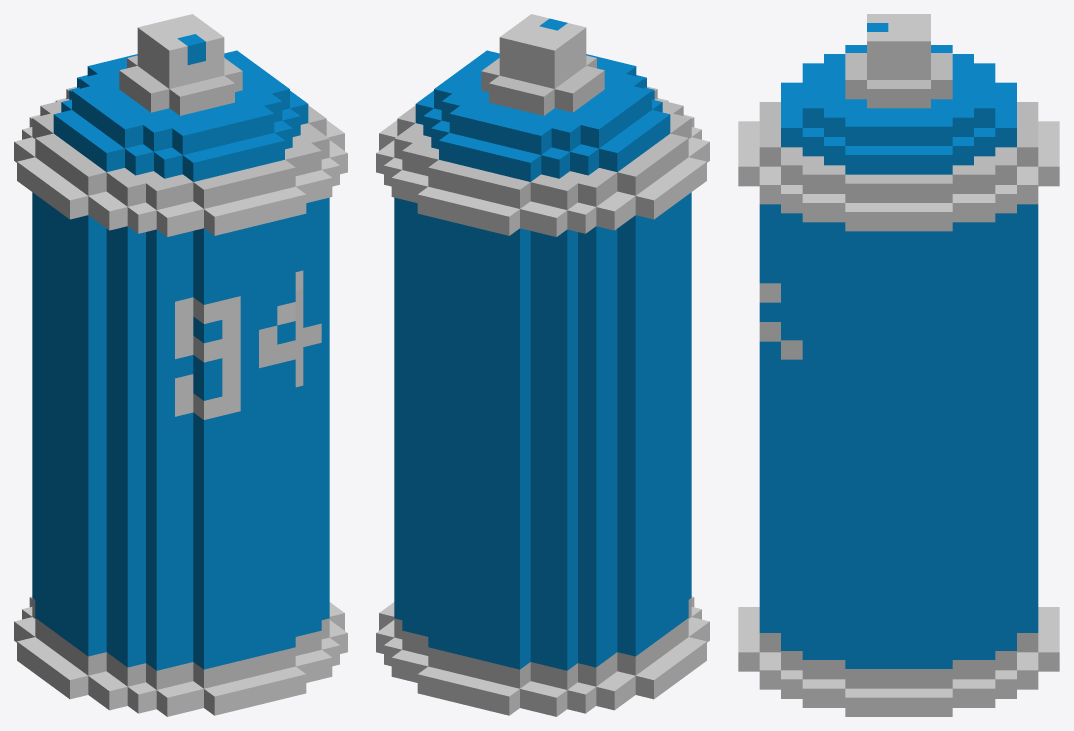
3 views of the same model, side by side, from view 1: azimuth 30°, elevation 25°; view 2: azimuth 150°, elevation 25°; view 3: azimuth 270°, elevation 25° (orthographic).
Size of the model in its own units: 0.75 by 1.6 by 0.75.
